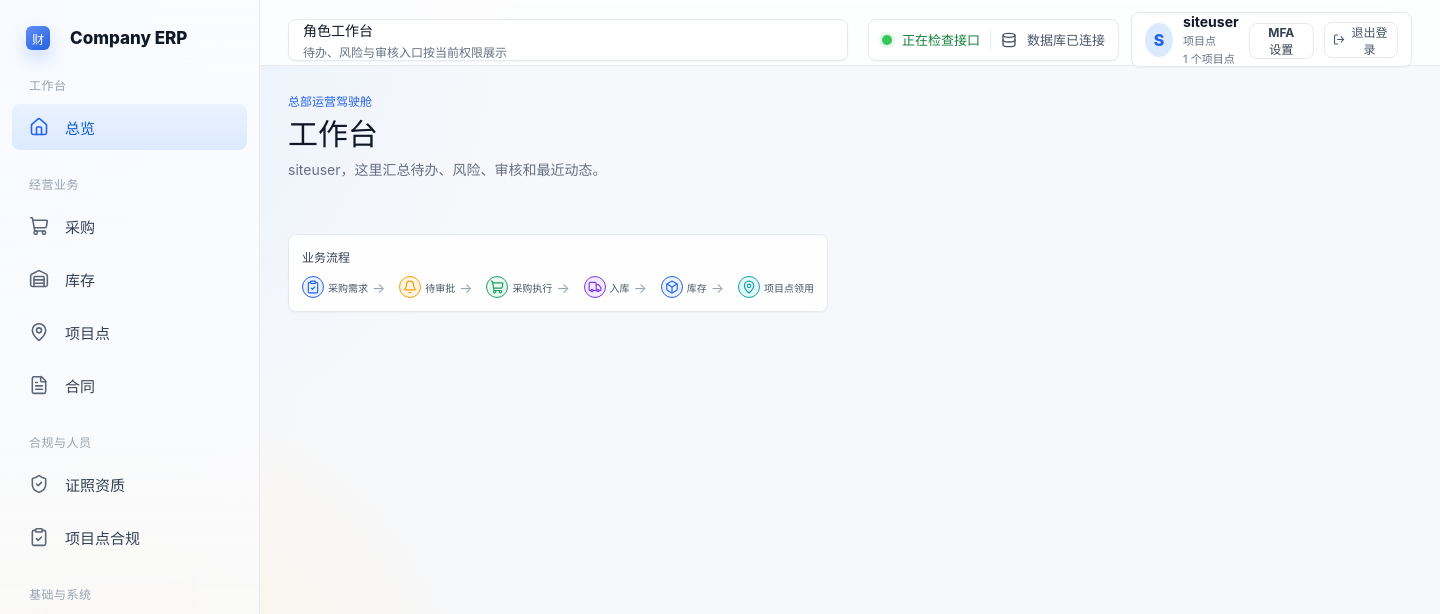
Test case: Company ERP app shell › shows project-site users only usage actions and hides global stock balance
The image size is (1440, 614).
Expected: the heading "工作台" is shown, [288,116,378,152]
Expected: the text "siteuser" is shown, [1183,13,1239,30]
Click the button "项目点". click: click(130, 332)
box: [12,309,247,355]
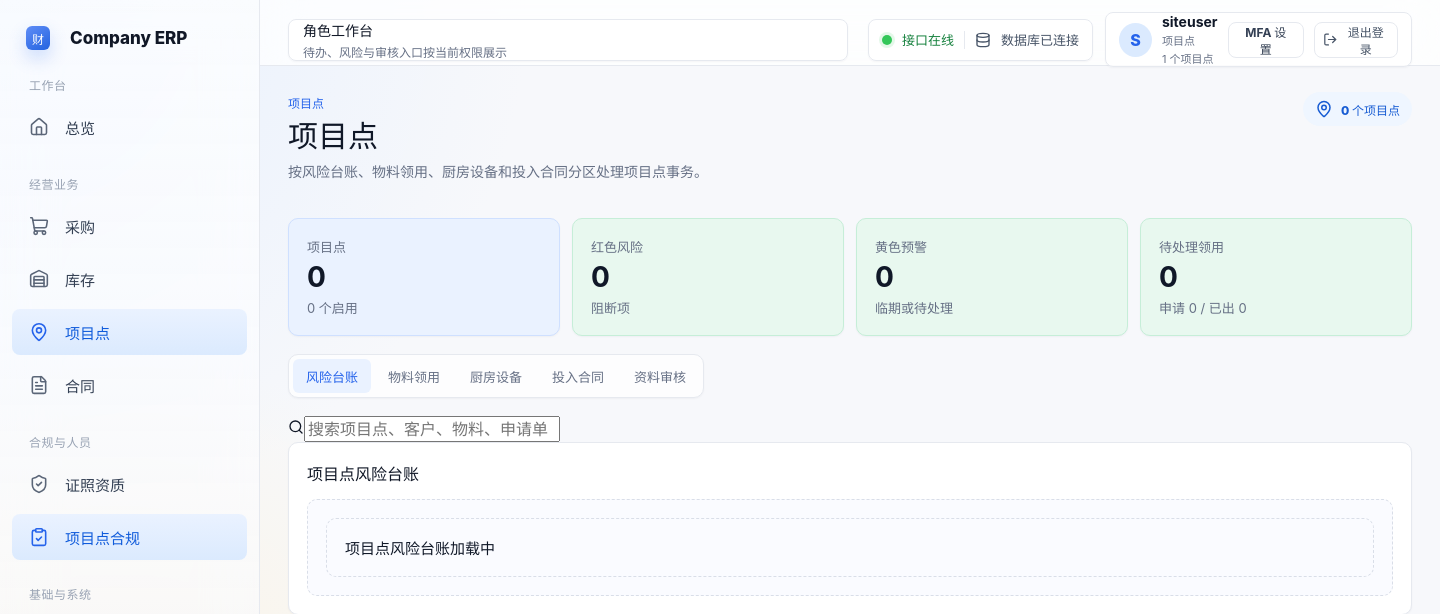
Click the tab "物料领用". click: click(414, 376)
box: [375,360,453,394]
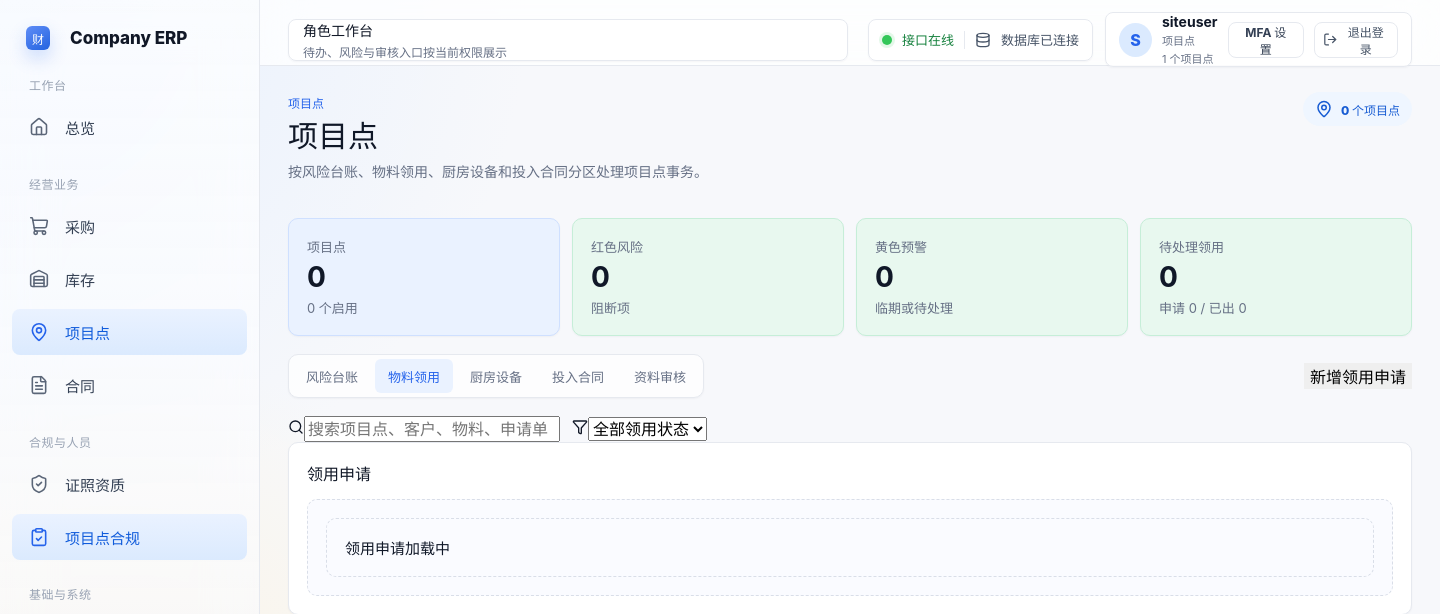
Click the button "新增领用申请". click: click(1358, 376)
box: [1304,364,1412,390]
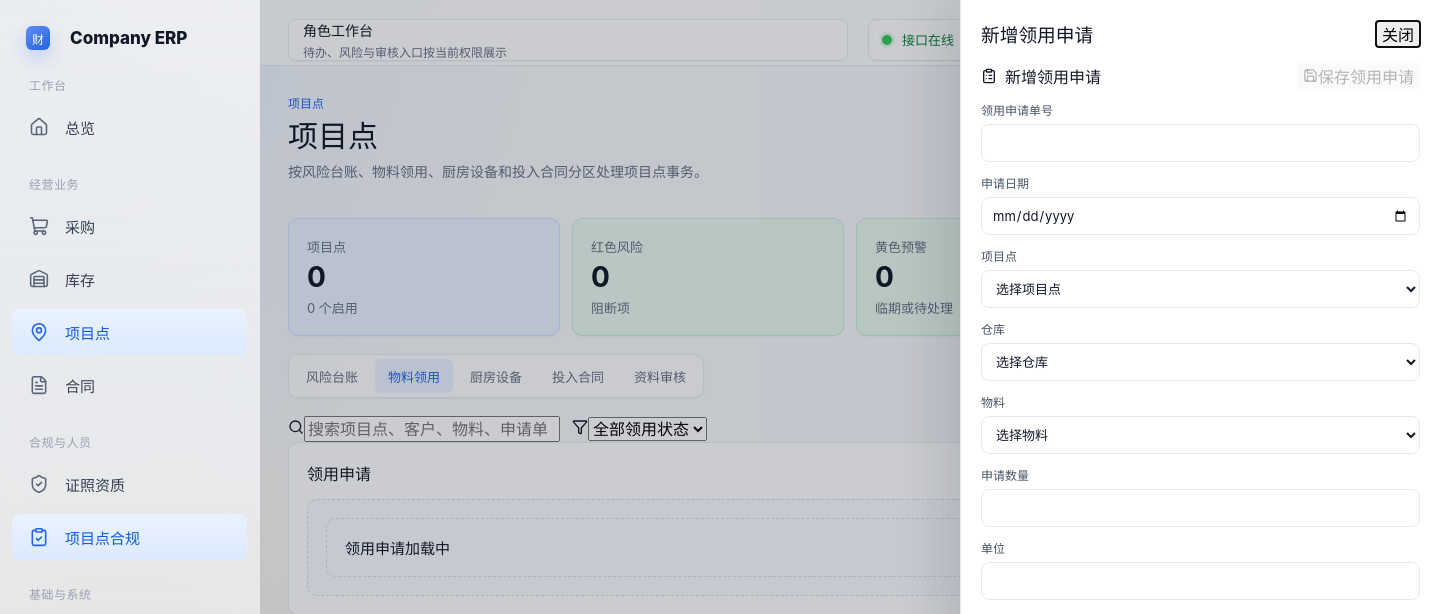
Expected: the button "保存领用申请" is shown, [1297,63,1420,89]
Click the button "库存". click: click(130, 279)
box: [12,256,247,302]
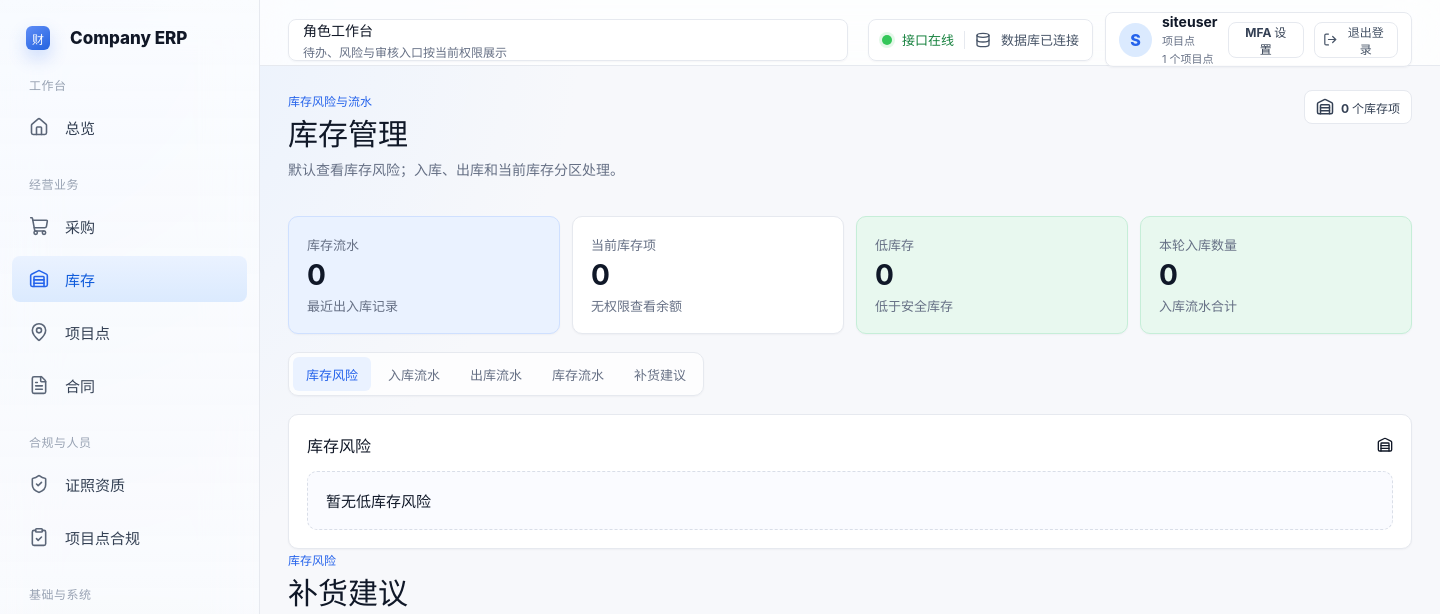
Click the button "合同". click: click(130, 385)
box: [12,362,247,408]
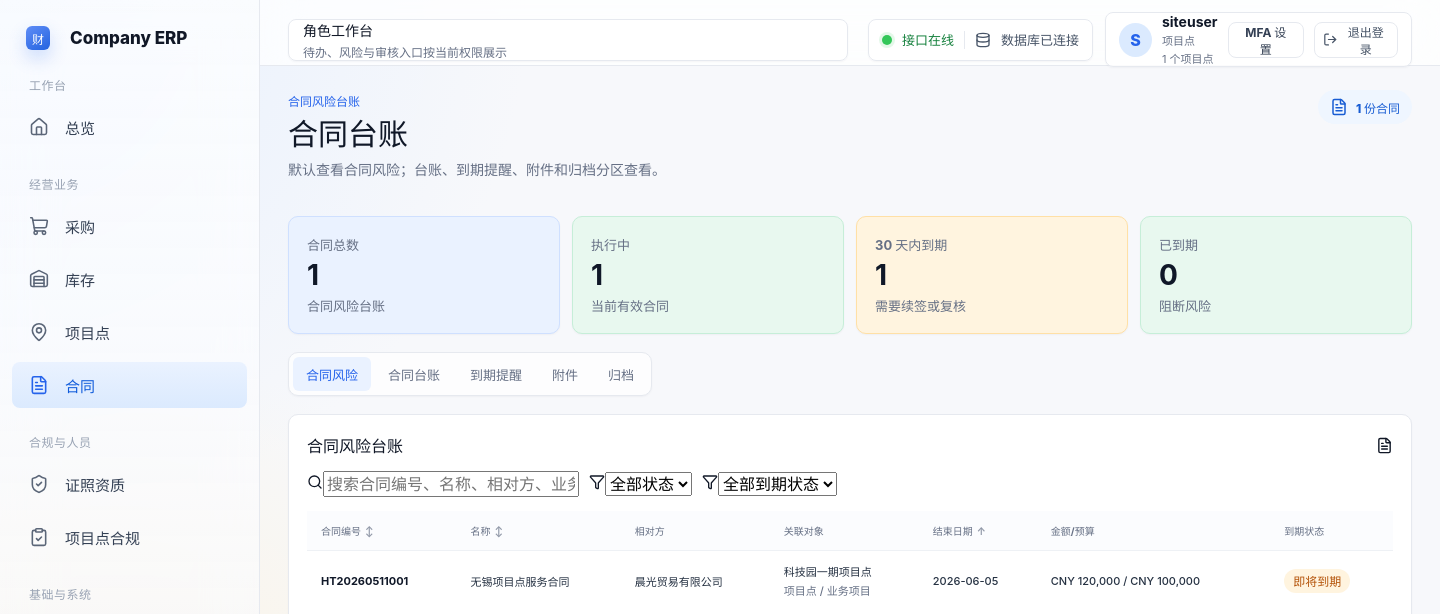
Expected: the heading "合同台账" is shown, [288,116,408,152]
